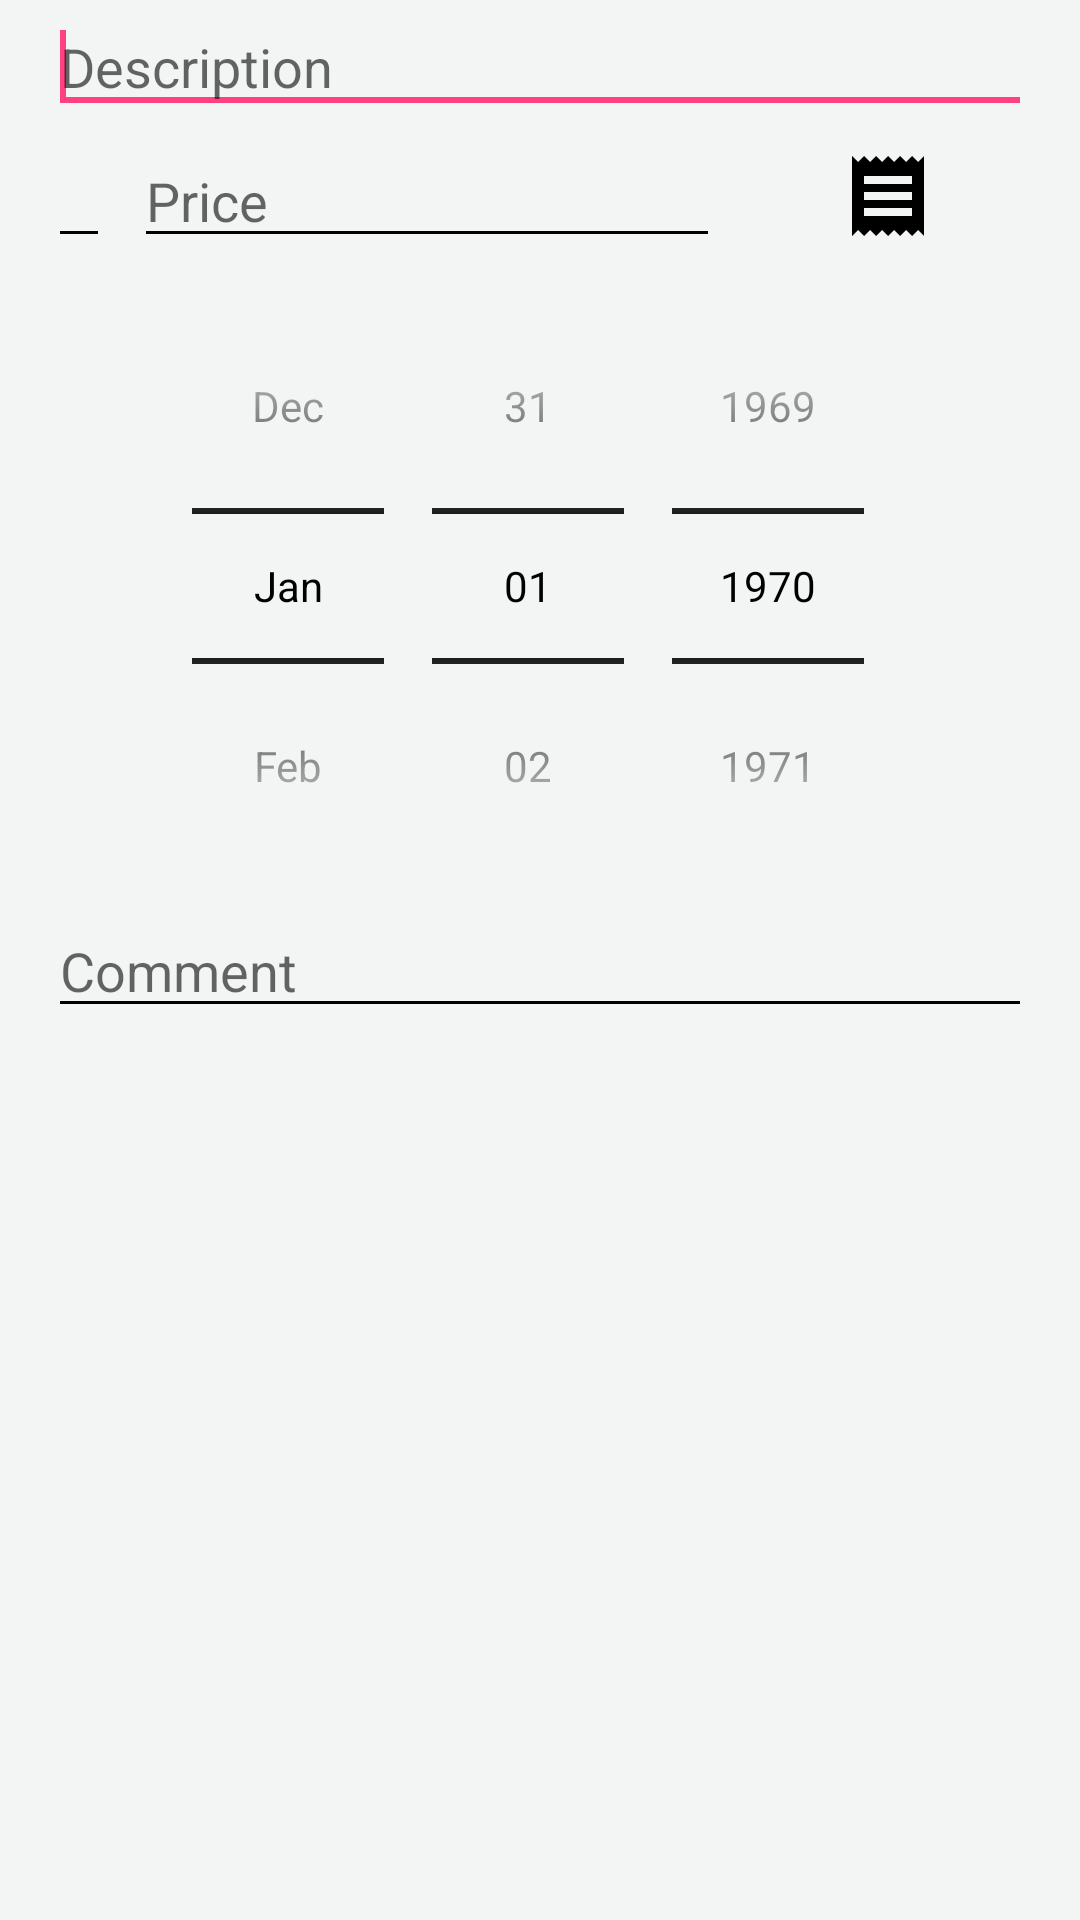

Point at icon controls on the screen. Image size 1080*1920, points as (x,y).
receipt: (888,196)
